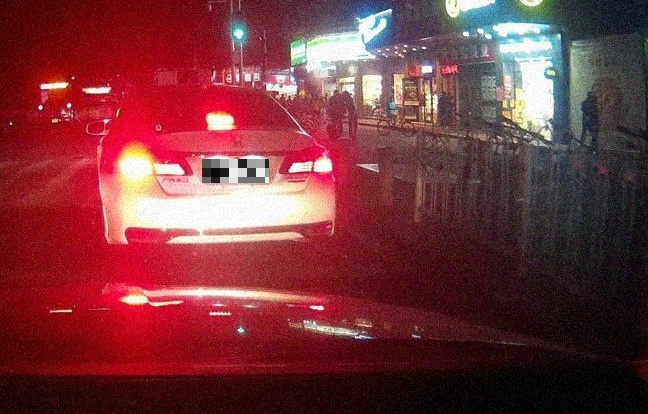L_light: (115, 154, 193, 176)
R_light: (280, 150, 333, 175)
T_light: (206, 113, 234, 126)
night-left: (98, 82, 336, 271)
plate_1: (202, 159, 269, 183)
